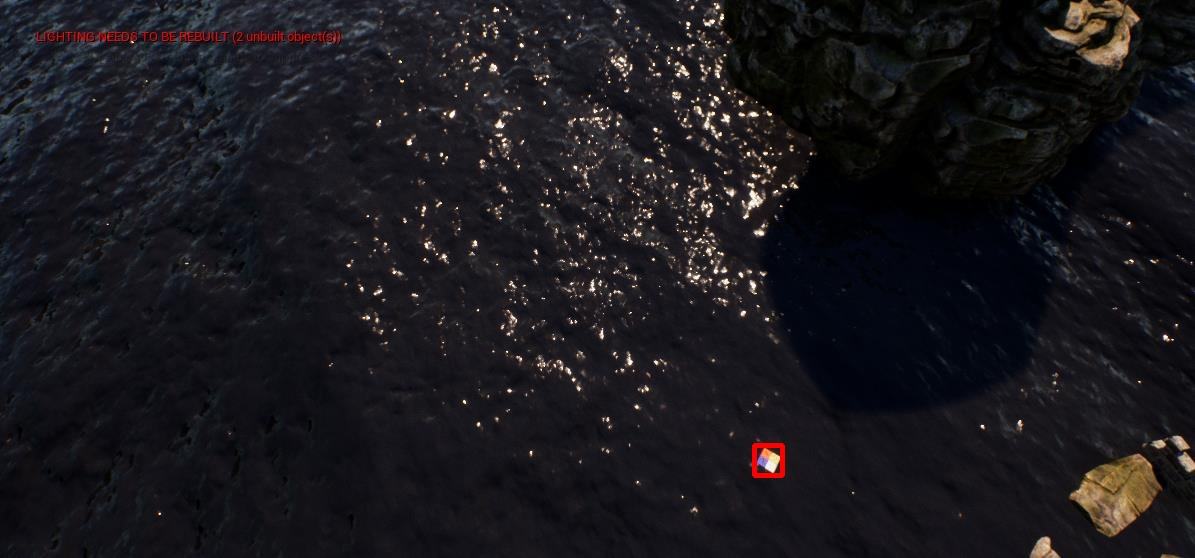nfpa: (754, 445, 782, 475)
